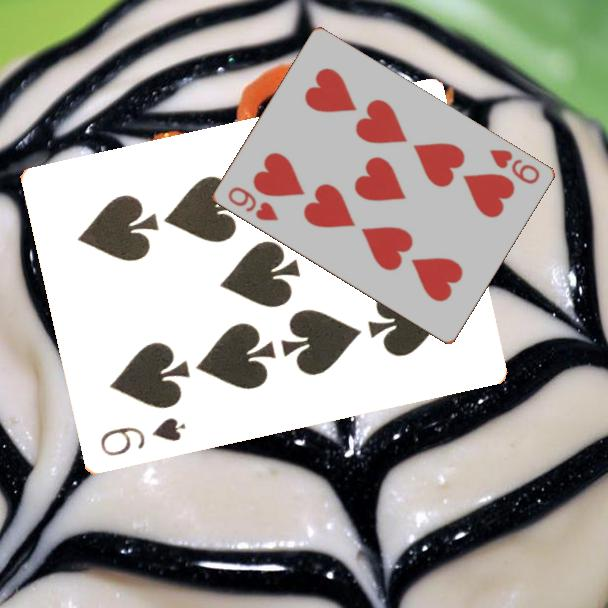h09: (224, 183, 281, 224), (485, 146, 542, 187)
s09: (96, 414, 188, 460)
